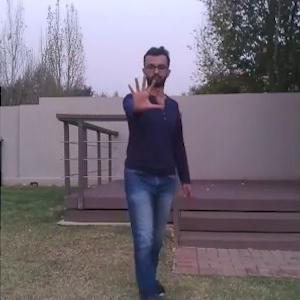follow_hand: (125, 72, 165, 112)
